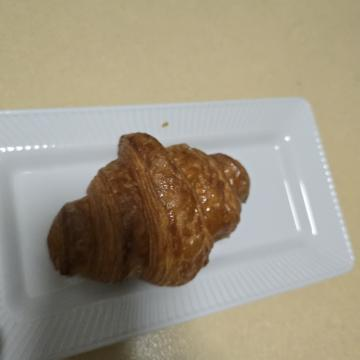croissant: (119, 100, 293, 320)
